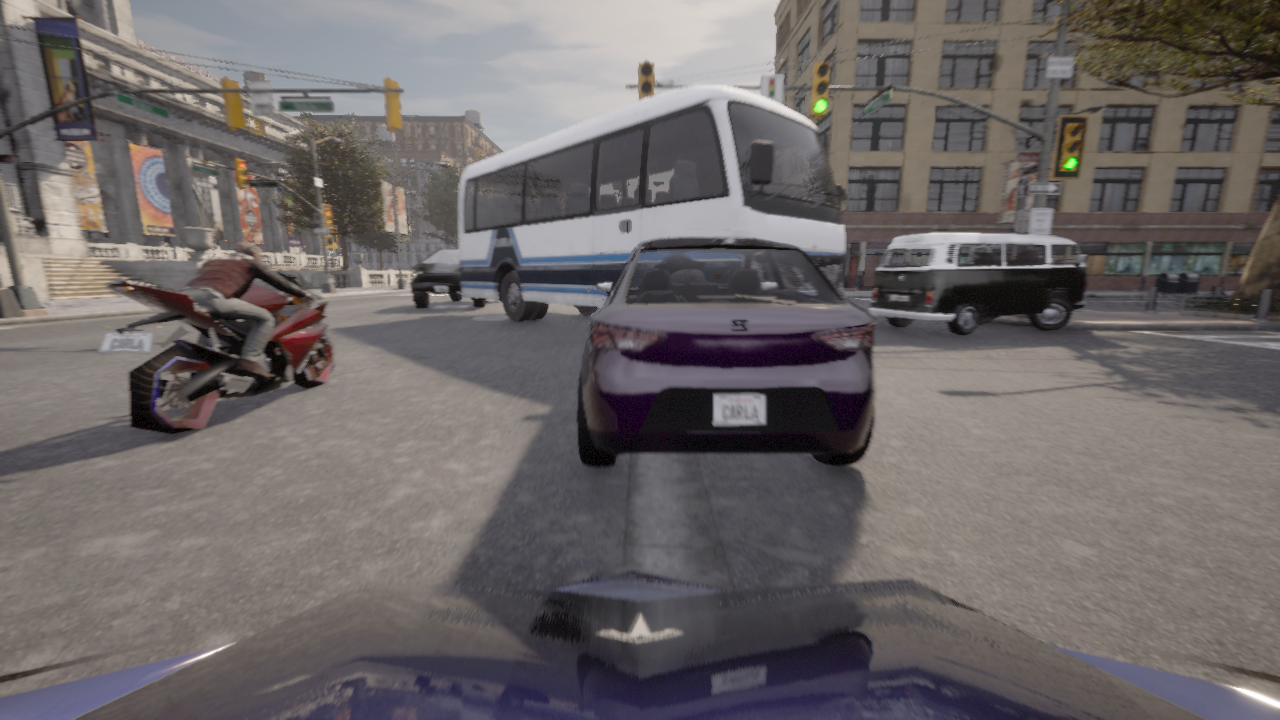cyclist: (0, 569, 1279, 719), (458, 85, 847, 321), (577, 237, 876, 466), (98, 270, 334, 434), (869, 232, 1088, 335), (410, 249, 501, 308)
